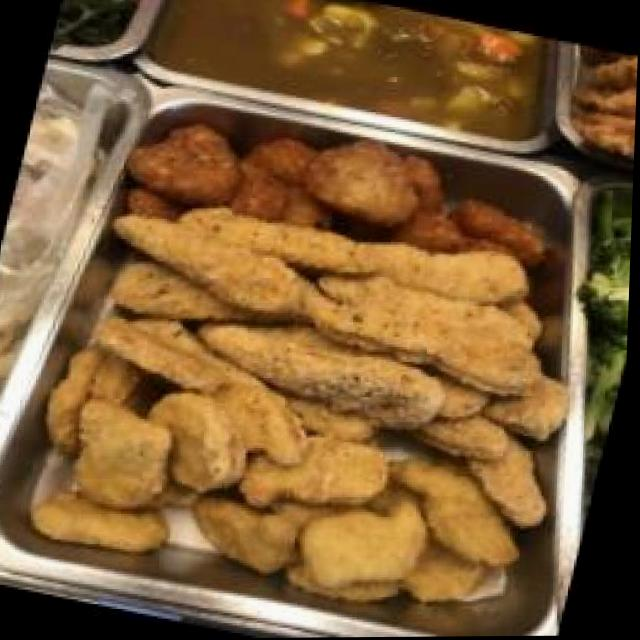chicken_nuggets: (9, 337, 568, 640)
curry: (161, 0, 543, 139)
triangle_hash_brown: (120, 90, 568, 272)
